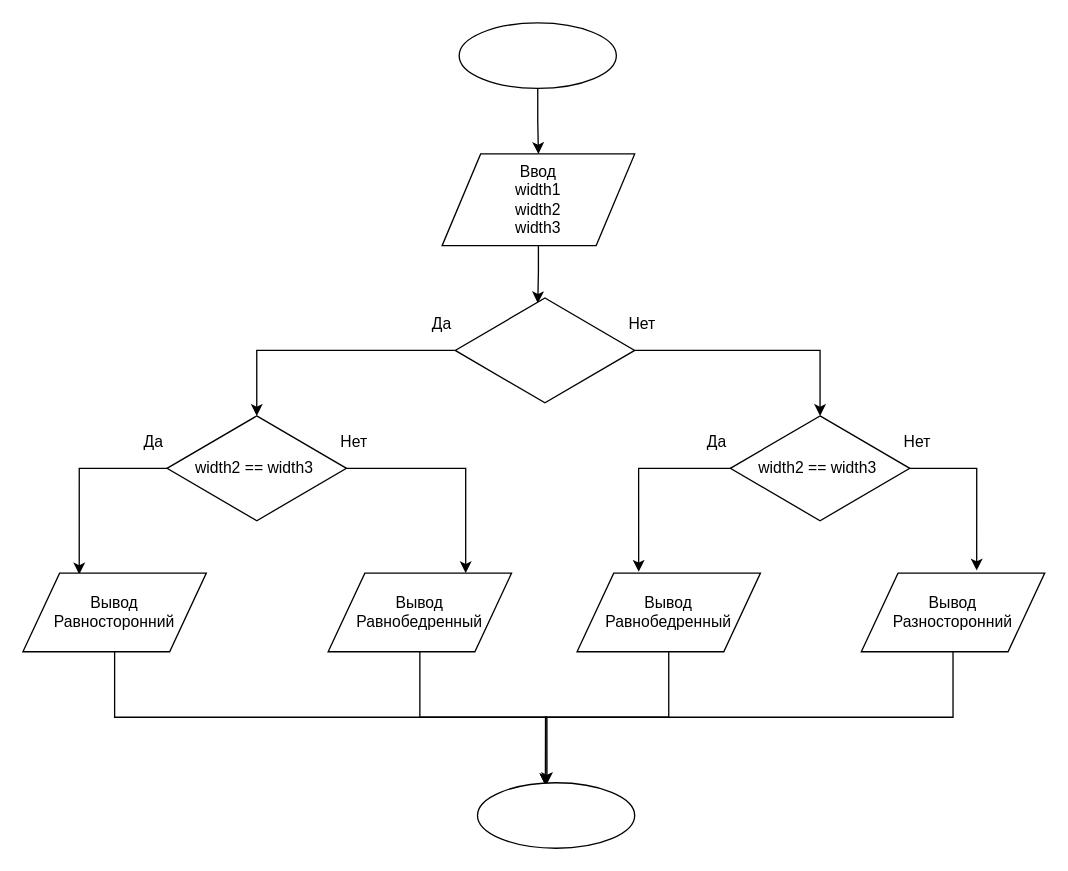
The diagram is 1068 pixels wide and 871 high, and some of its shapes have lost their labels. The shapes that lost their labels are listed below. From the top down, each one's centre as x and y in pixels, then its label:
the point at 537,55: Начало
the point at 544,350: width1 == width2
the point at 555,814: Конец
